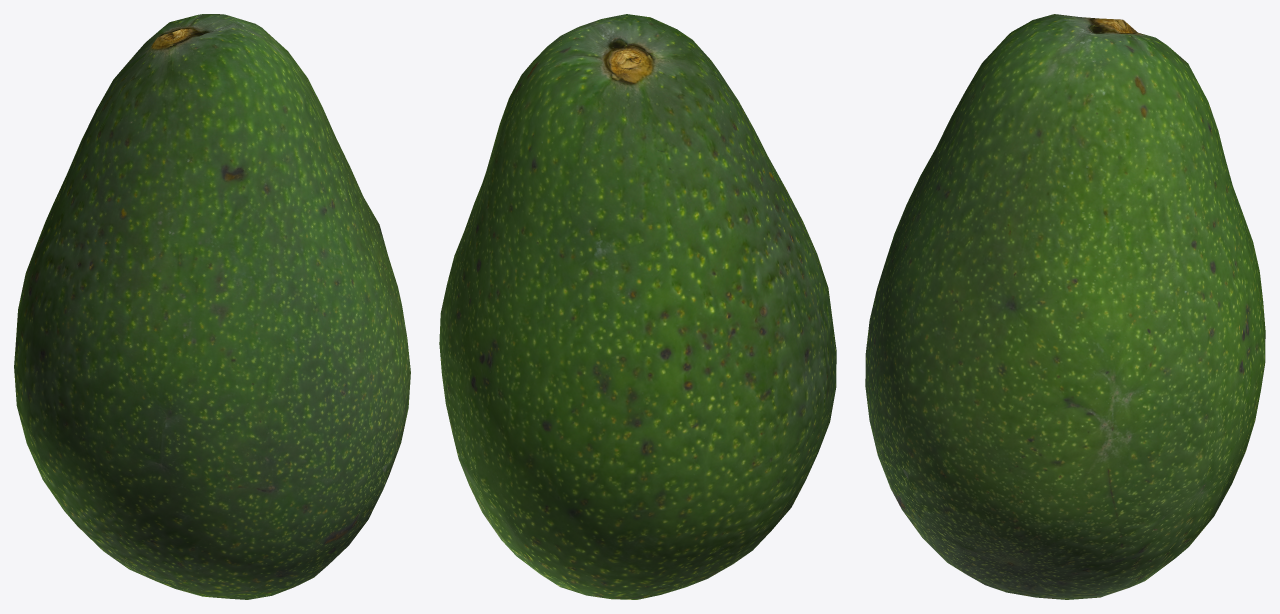
Rendered from avocado.glb.glb.
3 views of the same model, side by side, from view 1: azimuth 30°, elevation 25°; view 2: azimuth 150°, elevation 25°; view 3: azimuth 270°, elevation 25° (orthographic). The views are drawn at different scales.
Visible parts, largest first — view 1: Object_2; view 2: Object_2; view 3: Object_2.
Boxes of the visible parts, x1,y1,x2,y2 form: Object_2: [14, 14, 410, 599]; Object_2: [439, 14, 836, 599]; Object_2: [865, 14, 1265, 599].
Size of the model in its own units: 10.06 by 15.41 by 9.95.
Materials: 1 (1 with a texture image).
